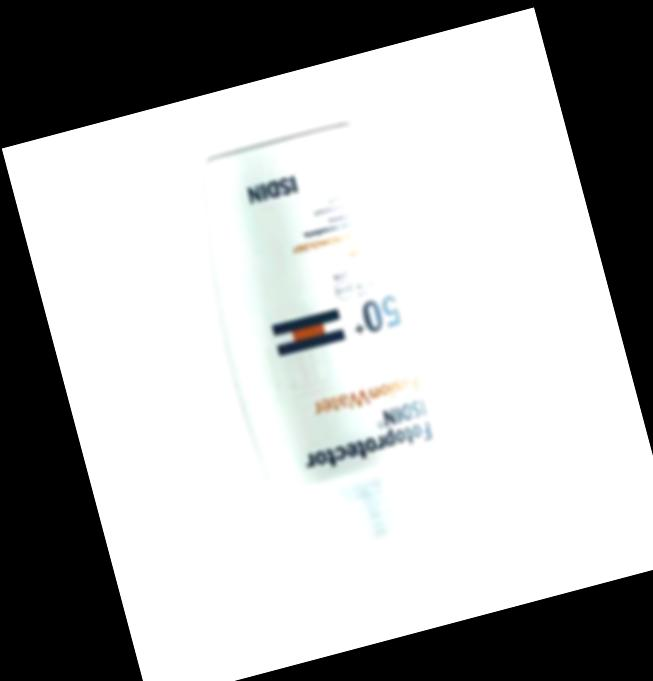cosmetic: (185, 113, 483, 605)
